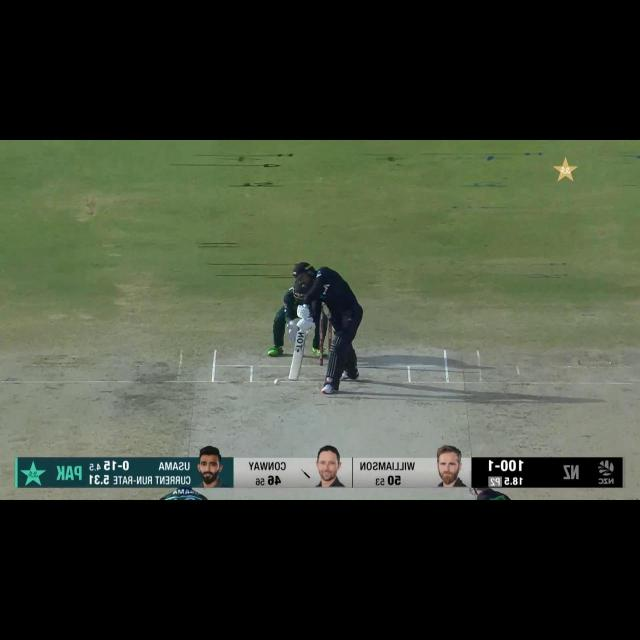bat: (286, 330, 309, 382)
toe: (283, 370, 299, 384)
